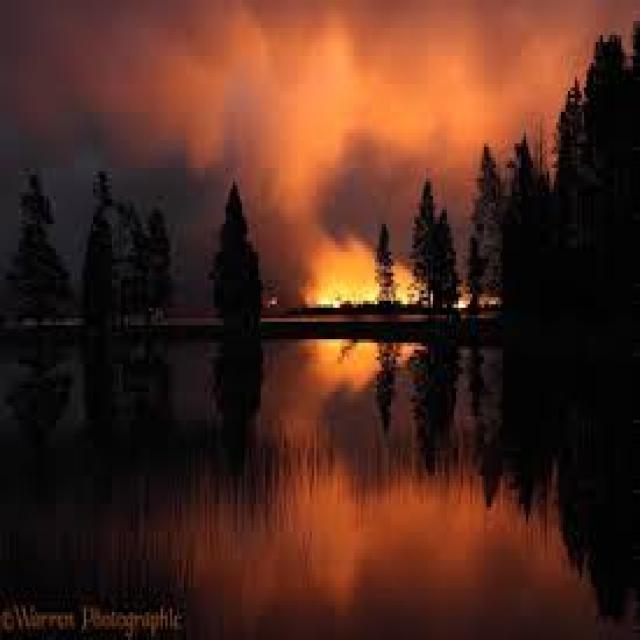Fire: (313, 282, 424, 308), (453, 286, 474, 312)
Smoke: (0, 0, 638, 266)
